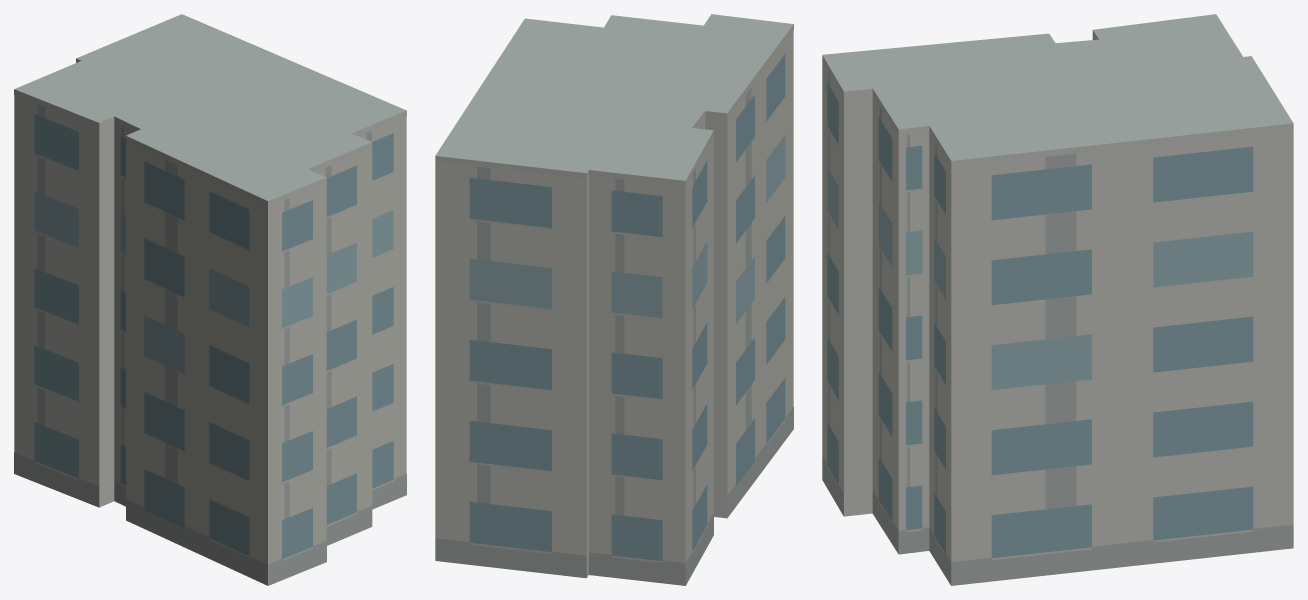
Rendered from survey-upis-32925452.glb.
3 renders of one model, left to right at view 1: azimuth 30°, elevation 25°; view 2: azimuth 150°, elevation 25°; view 3: azimuth 270°, elevation 25°, orthographic. The views are drawn at different scales.
Parts seen in each view (by area): view 1: survey-upis-32925452.tmp; view 2: survey-upis-32925452.tmp; view 3: survey-upis-32925452.tmp.
Boxes of the visible parts, x1,y1,x2,y2 form: survey-upis-32925452.tmp: (14,14,406,585); survey-upis-32925452.tmp: (435,14,793,585); survey-upis-32925452.tmp: (822,14,1293,585).
Bounding box in the file's own units: 12.1 × 16.3 × 16.4.
